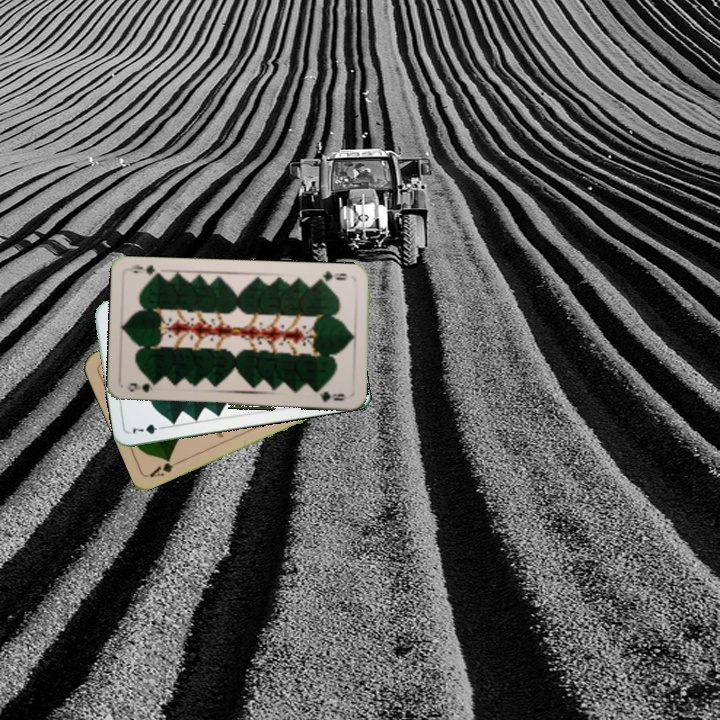G7: (129, 420, 168, 437)
G9: (314, 267, 349, 285), (124, 380, 160, 394)
GA: (146, 455, 184, 480)
